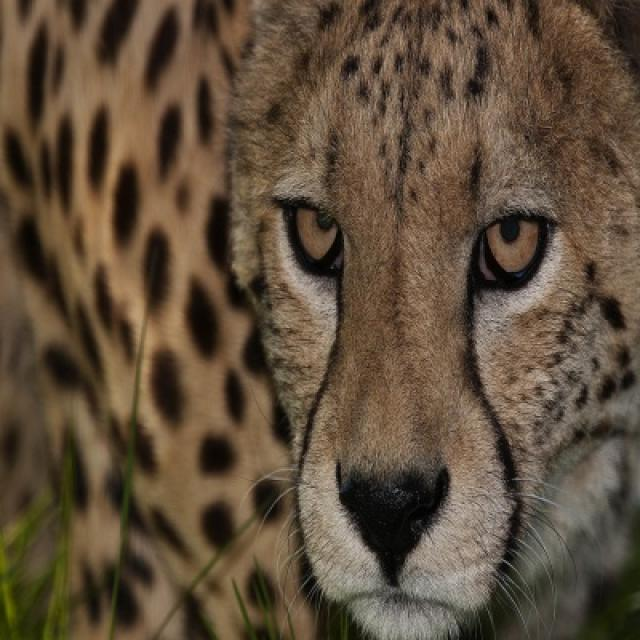Cheetah: (226, 0, 638, 638)
